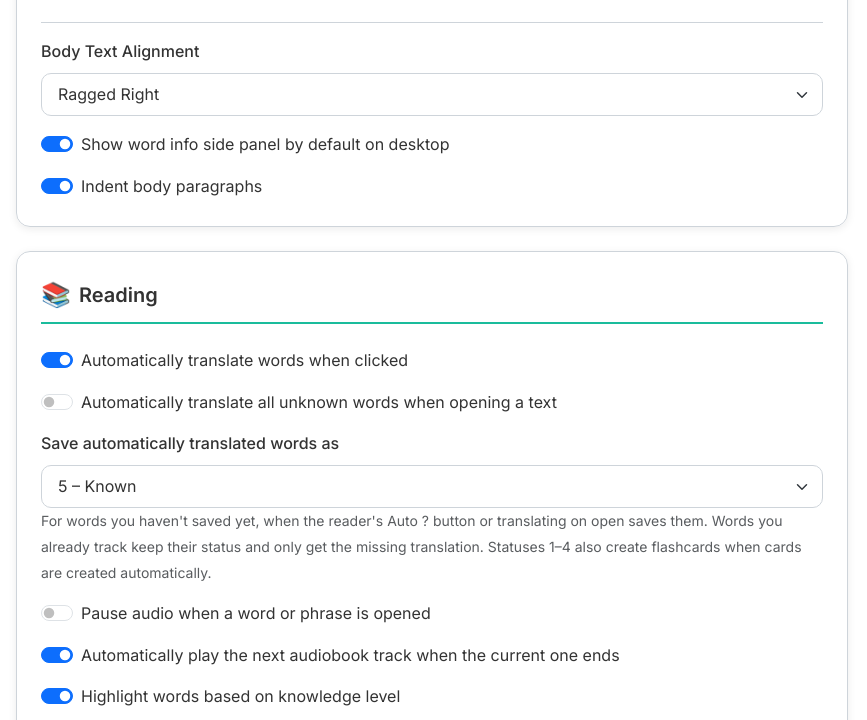
Test: UserSettings › sends a change made while a save is running right after it, not alongside
(page scrolled)
Click the checkbox labelled "Automatically translate words when clicked": (57, 360) 41,352 -> 73,368
Wait 150 ms
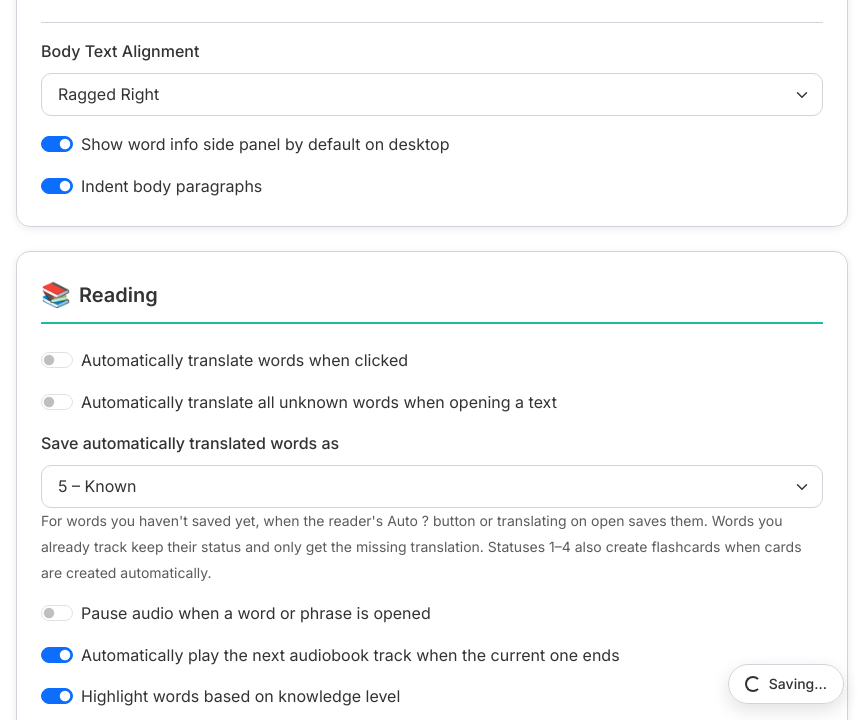
Click the checkbox labelled "Pause audio when a word or phrase is opened": (57, 613) 41,605 -> 73,621
Wait 10000 ms
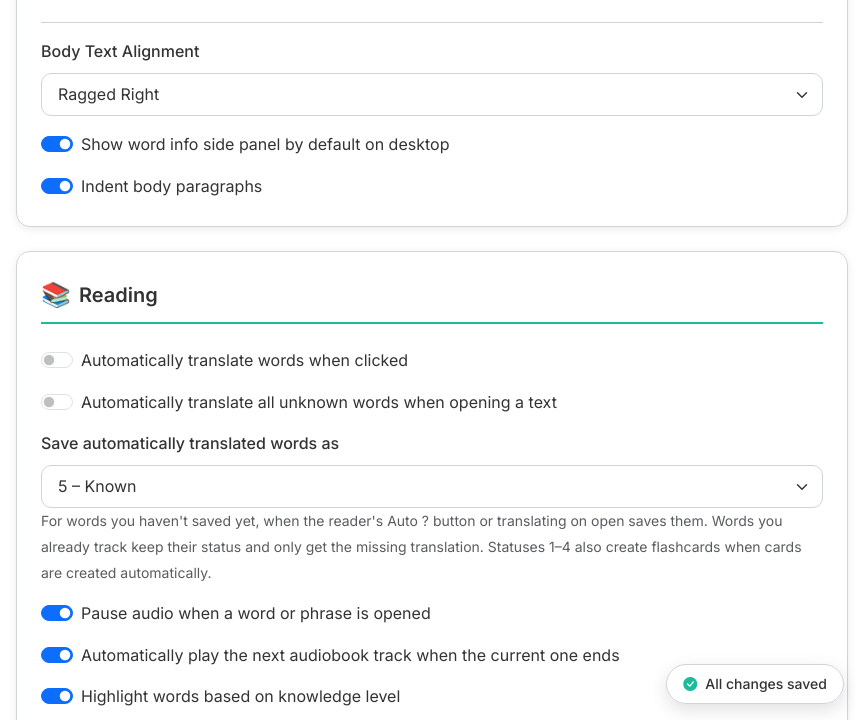
Now the text "All changes saved" is shown, box 705,673 -> 827,695
